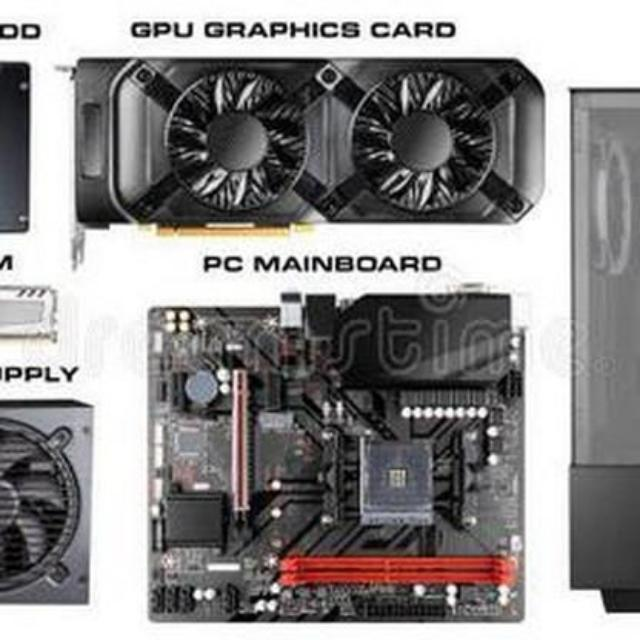GPU: (66, 35, 554, 262)
Mainboard: (130, 284, 541, 633)
